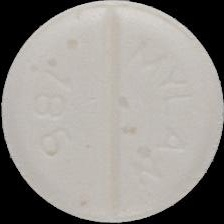67046-098: (0, 0, 224, 224)
